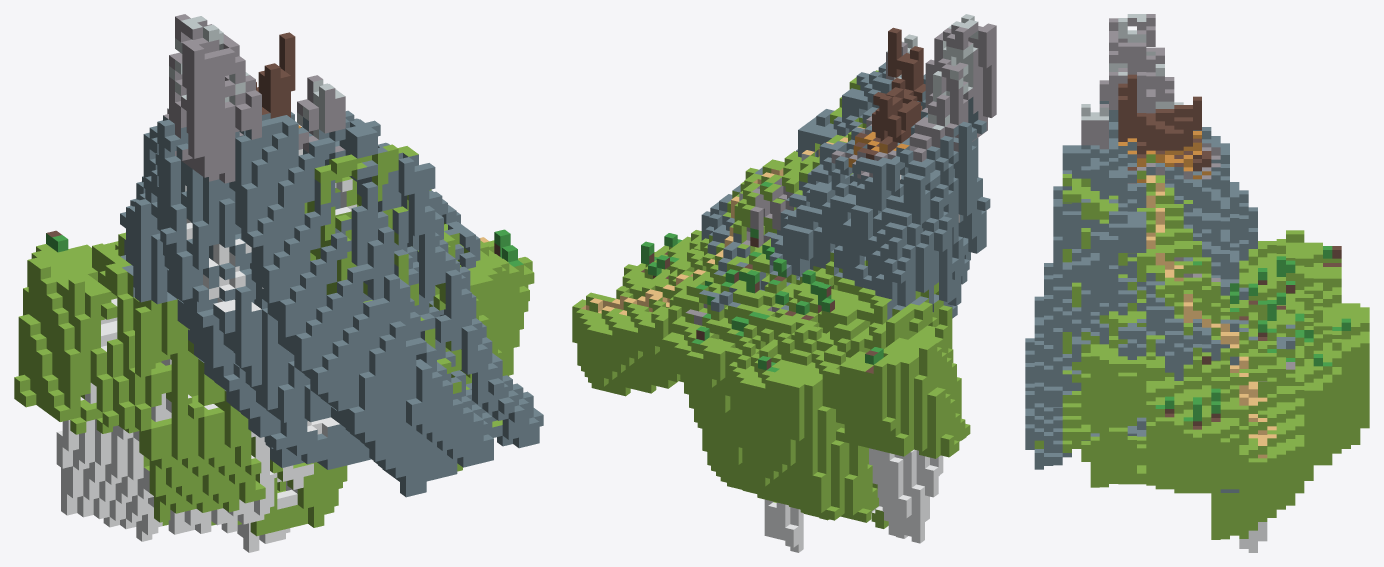
The model's file is Mountaintop by Matthew Burdette - 8mWDJgGcXSH.glb.
3 views of the same model, side by side, from view 1: azimuth 30°, elevation 25°; view 2: azimuth 150°, elevation 25°; view 3: azimuth 270°, elevation 25° (orthographic). The views are drawn at different scales.
Visible parts, largest first — view 1: Node_Voxelized; view 2: Node_Voxelized; view 3: Node_Voxelized.
Part boxes in pixels (left/top/right/bottom): Node_Voxelized: left=14, top=14, right=543, bottom=552; Node_Voxelized: left=572, top=14, right=996, bottom=552; Node_Voxelized: left=1025, top=14, right=1369, bottom=552.
Size of the model in its own units: 0.6807 by 0.8436 by 0.5476.
1 material, 1 textured.
